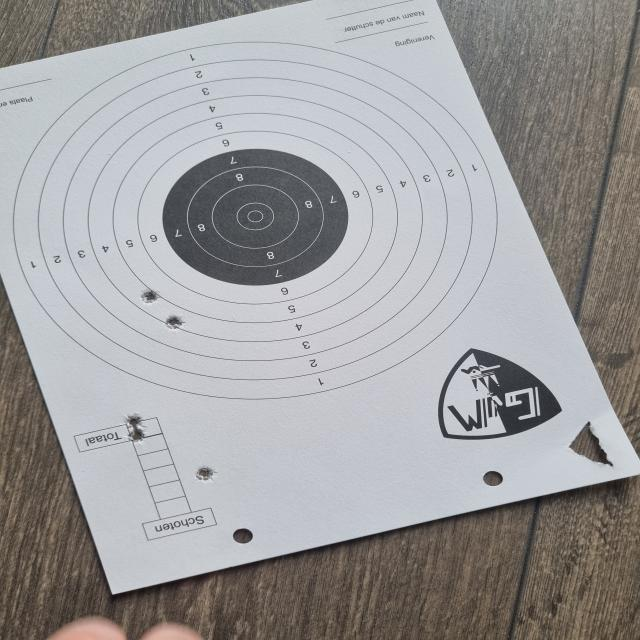0: (195, 466, 218, 482), (123, 414, 148, 428), (127, 429, 147, 443)
4: (164, 315, 186, 330)
5: (140, 290, 160, 304)
Target: (11, 39, 502, 401)
black_contour: (160, 148, 349, 284)
